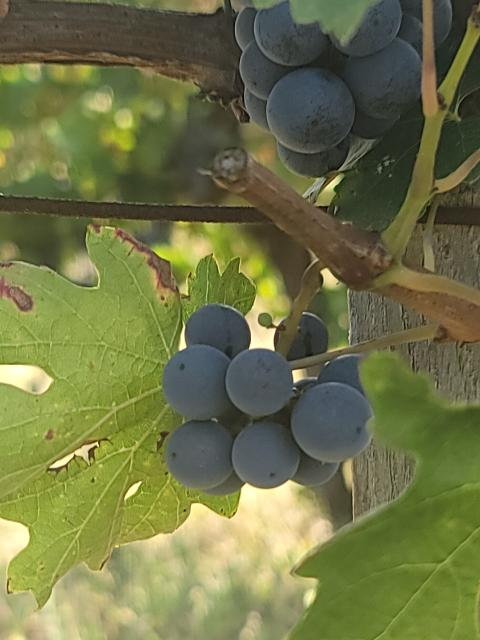grapes: (162, 304, 372, 496), (289, 312, 328, 360)
